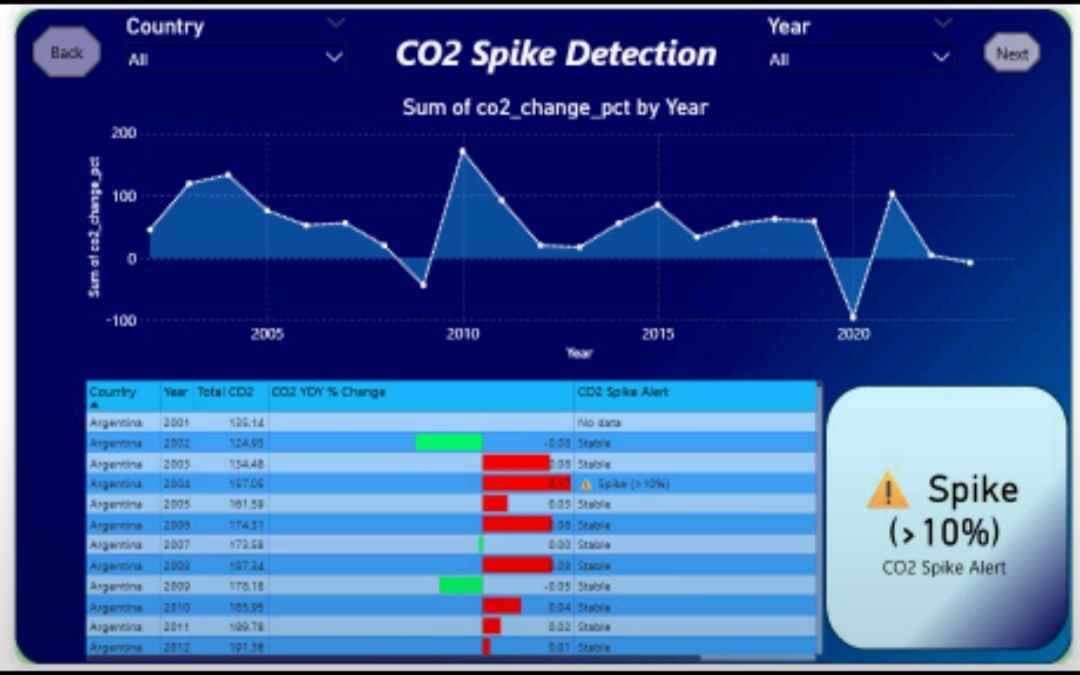

What the dashboard file says about the page in this screenshot:
{"tool":"powerbi","page":{"name":"Page 2","canvas":[1500,930],"ordinal":1},"visuals":[{"type":"shape","box":[480,0,576,120],"z":0},{"type":"lineChart","fields":{"Category":["Master Table.Year"],"Y":["Sum(Master Table.co2_change_pct)"]},"box":[96,120,1344,384],"z":1000},{"type":"slicer","fields":{"Values":["Master Table.Country"]},"box":[144,0,336,120],"z":2000},{"type":"slicer","fields":{"Values":["Master Table.Year"]},"box":[1056,0,288,120],"z":3000},{"type":"tableEx","fields":{"Values":["Master Table.Country","Master Table.Year","Master Table.Total CO2","Master Table.CO2 YOY % Change","Master Table.CO2 Spike Alert"]},"box":[96,522,1056,408],"z":4000},{"type":"card","fields":{"Values":["Master Table.CO2 Spike Alert"]},"box":[1176,552,288,336],"z":5000},{"type":"actionButton","box":[1368,24,96,72],"z":6000},{"type":"actionButton","box":[24,24,96,72],"z":7000}]}

Visuals, with their boxes in screenshot pixels (x1, y1, x2, y2), scaled from the page's 1500x930 canvas onto the 1080x675 screenshot:
shape: 346/0/760/87
lineChart - Master Table.Year x Sum(Master Table.co2_change_pct): 69/87/1037/366
slicer - Master Table.Country: 104/0/346/87
slicer - Master Table.Year: 760/0/968/87
tableEx - Master Table.Country x Master Table.Year: 69/379/829/674
card - Master Table.CO2 Spike Alert: 847/401/1054/645
actionButton: 985/17/1054/70
actionButton: 17/17/86/70
